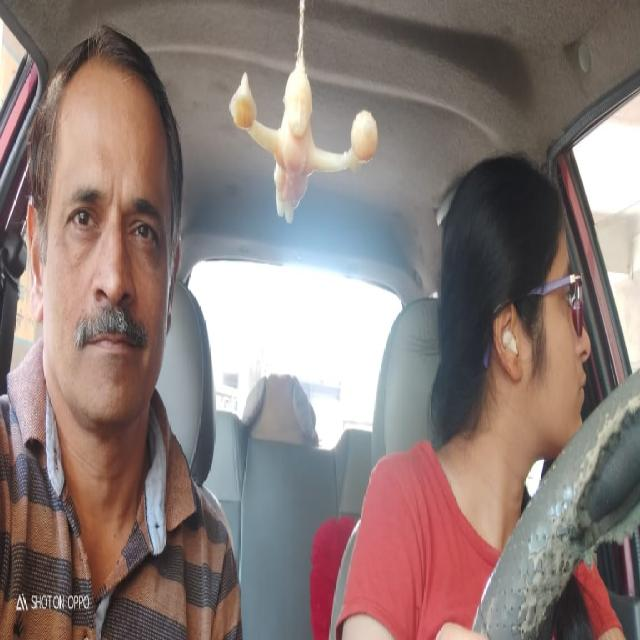LeftRight: (432, 144, 590, 449)
person: (21, 27, 187, 446)
